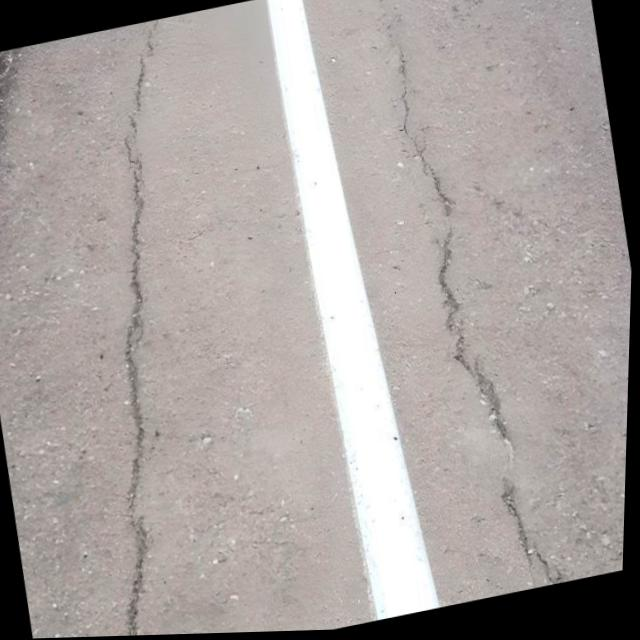Crack: (103, 239, 370, 637), (164, 0, 382, 299)
